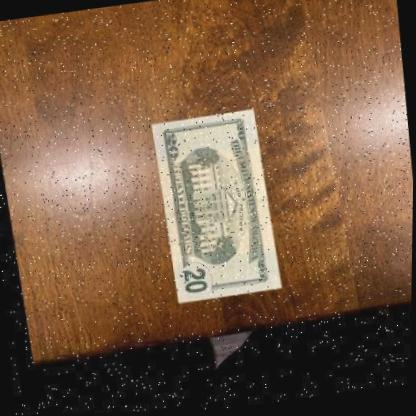dollar_back: (145, 109, 282, 308)
